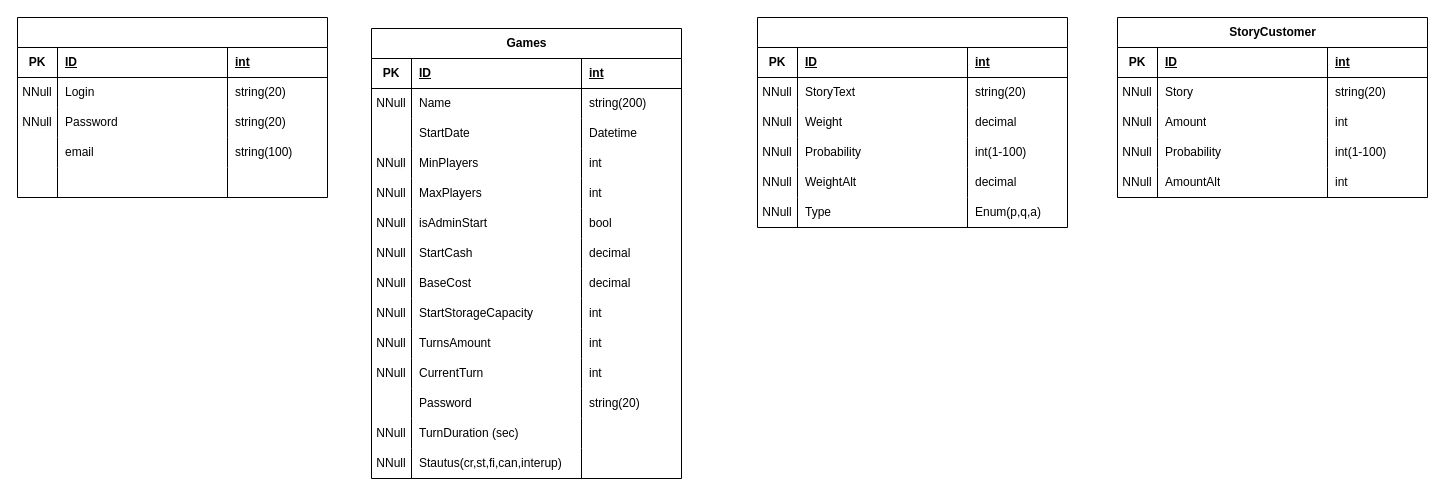
Some shapes in this 1445 by 496 pixel diagram are drawn without their labels. Here are the shapes that lost their labels. From the top down, the box of each, then its label:
(16, 16, 328, 198): Users
(756, 16, 1068, 228): StoryWeight
